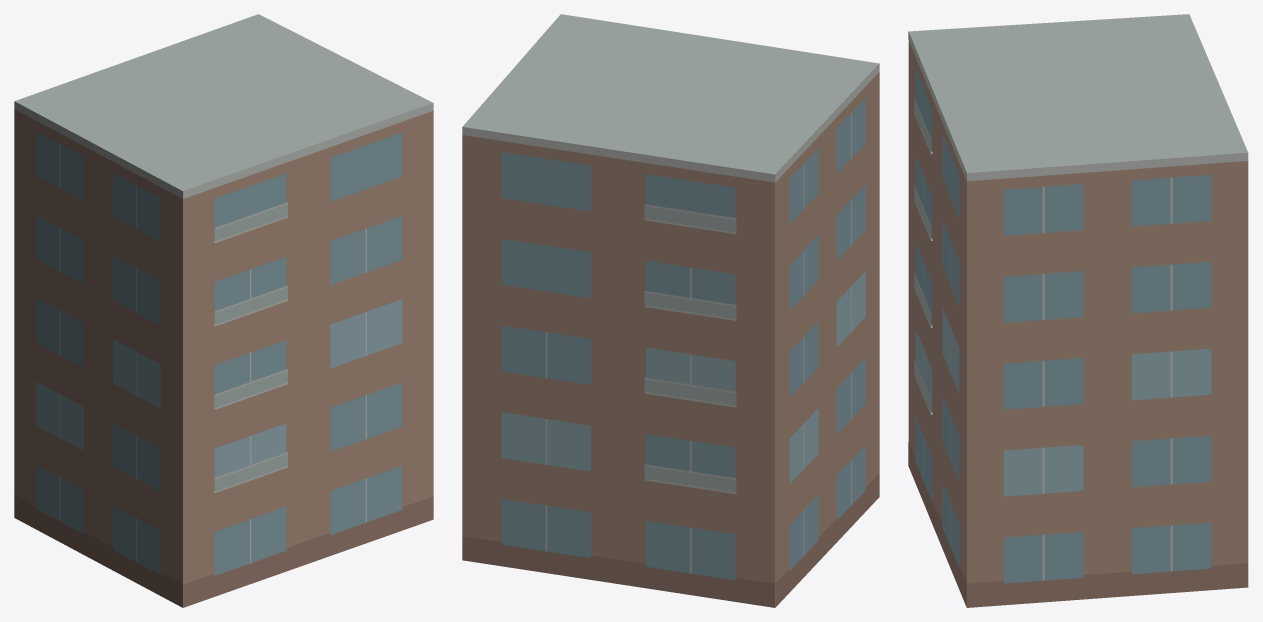
File: survey-upis-33013267.glb
3 views of the same model, side by side, from view 1: azimuth 30°, elevation 25°; view 2: azimuth 150°, elevation 25°; view 3: azimuth 270°, elevation 25° (orthographic). The views are drawn at different scales.
Parts seen in each view (by area): view 1: survey-upis-33013267.tmp; view 2: survey-upis-33013267.tmp; view 3: survey-upis-33013267.tmp.
Boxes of the visible parts, bbox=[...] form: survey-upis-33013267.tmp: bbox=[14, 14, 433, 607]; survey-upis-33013267.tmp: bbox=[462, 14, 879, 607]; survey-upis-33013267.tmp: bbox=[908, 14, 1248, 607].
Bounding box in the file's own units: 10.26 × 13.05 × 9.25.
